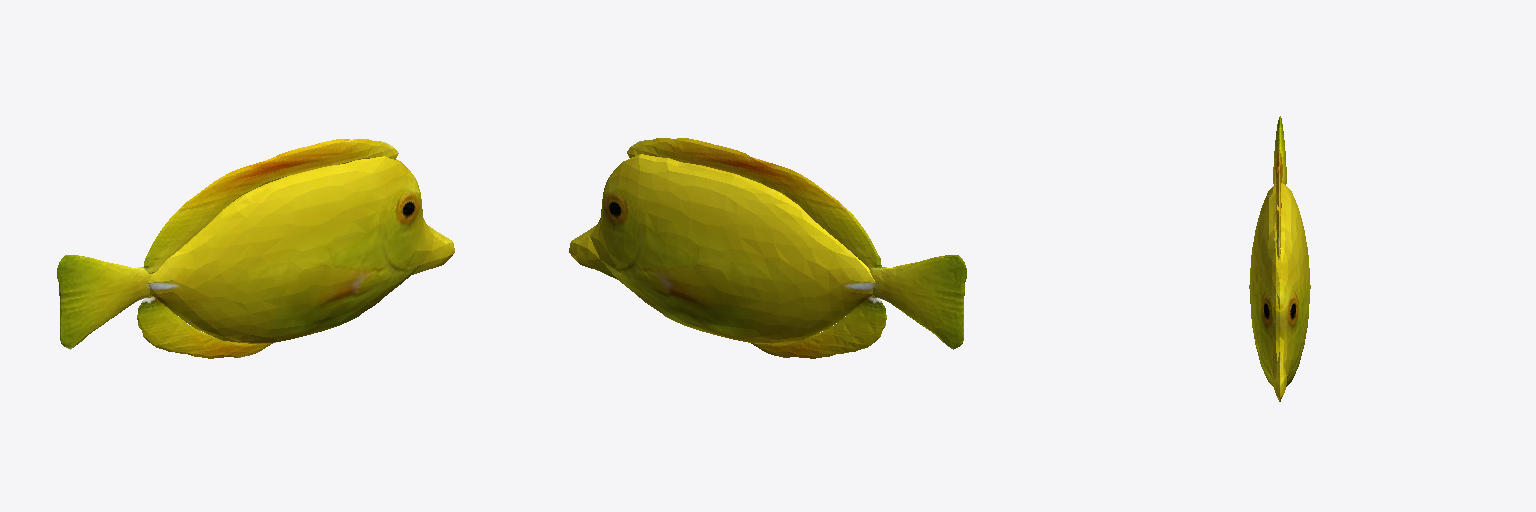
3 renders of one model, left to right at view 1: azimuth 30°, elevation 25°; view 2: azimuth 150°, elevation 25°; view 3: azimuth 270°, elevation 25°, orthographic.
Size of the model in its own units: 179 by 84.01 by 23.74.
Materials: 1 (1 with a texture image).